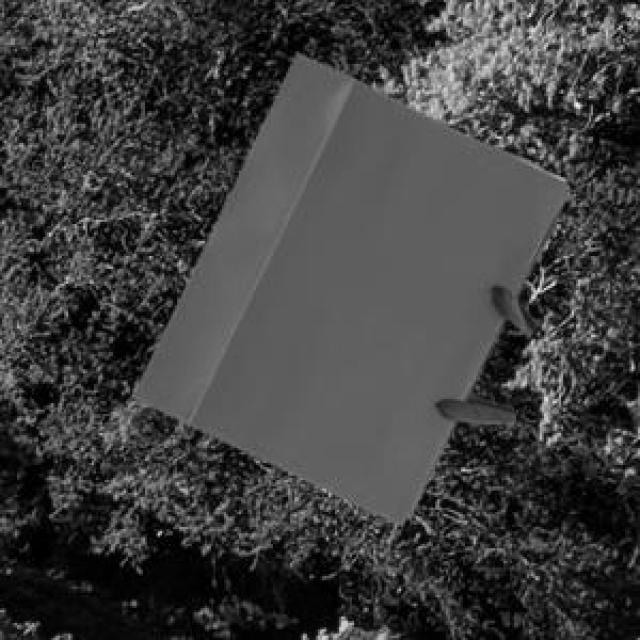paper: (128, 49, 565, 521)
